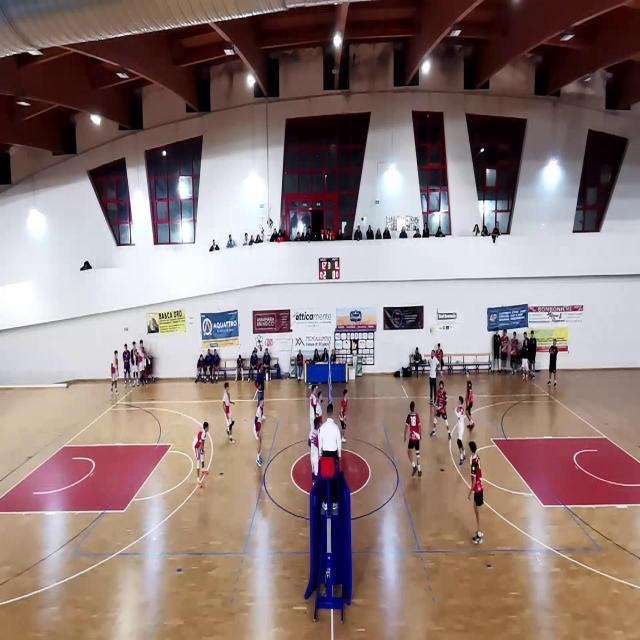volleyball: (430, 326, 438, 334)
